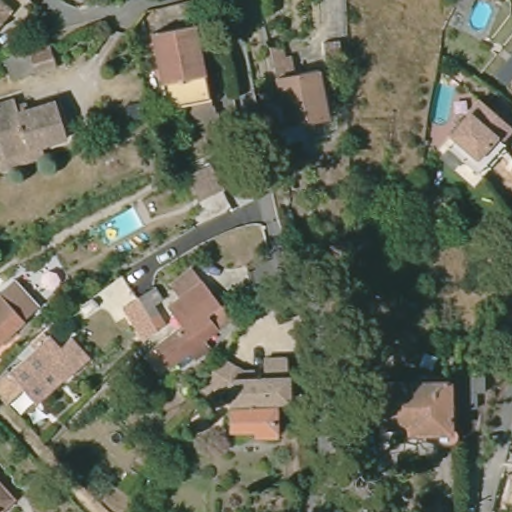pool: (93, 209, 145, 249), (427, 79, 463, 130), (472, 1, 495, 34)
